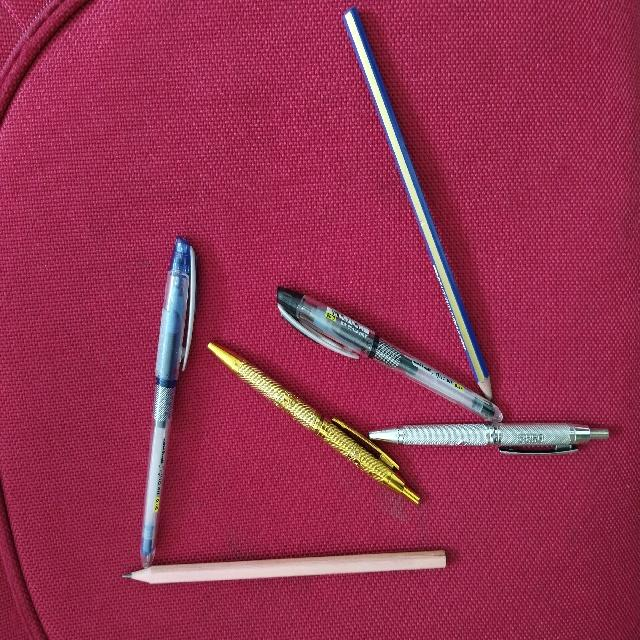pen: (277, 287, 502, 421), (141, 237, 195, 567)
pencil: (343, 7, 492, 398), (123, 550, 445, 583)
signature pen: (208, 343, 419, 503), (369, 423, 608, 453)
